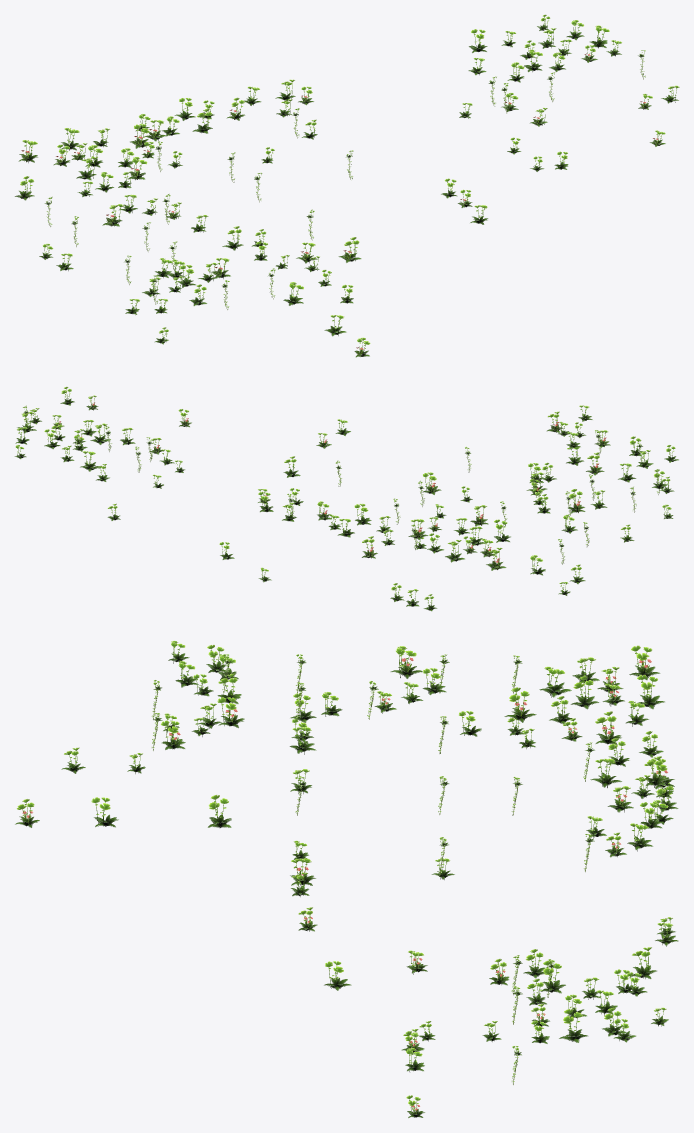
Rendered from Factory_Greenery.glb.
The picture shows the model from 3 angles, top to bottom: view 1: azimuth 30°, elevation 25°; view 2: azimuth 150°, elevation 25°; view 3: azimuth 270°, elevation 25°; orthographic projection. The views are drawn at different scales.
Bounding box in the file's own units: 53.2 × 7.69 × 36.99.
5 materials, 4 textured.
